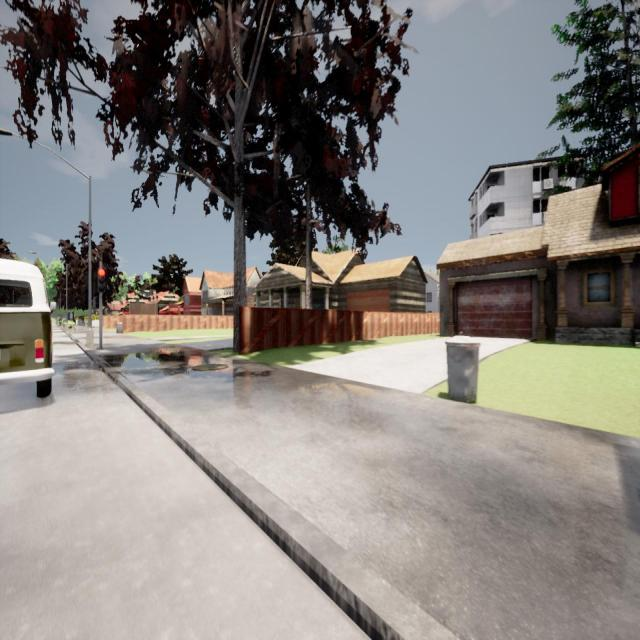Vehicle: (0, 258, 54, 396)
traffic_light: (98, 268, 106, 294)
